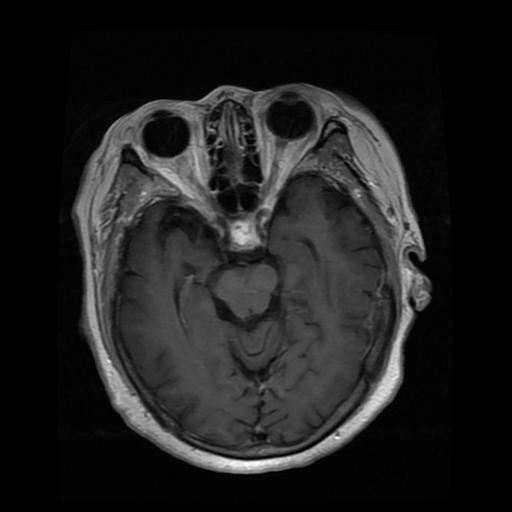Tumour-Pituitary: (208, 204, 287, 263)
